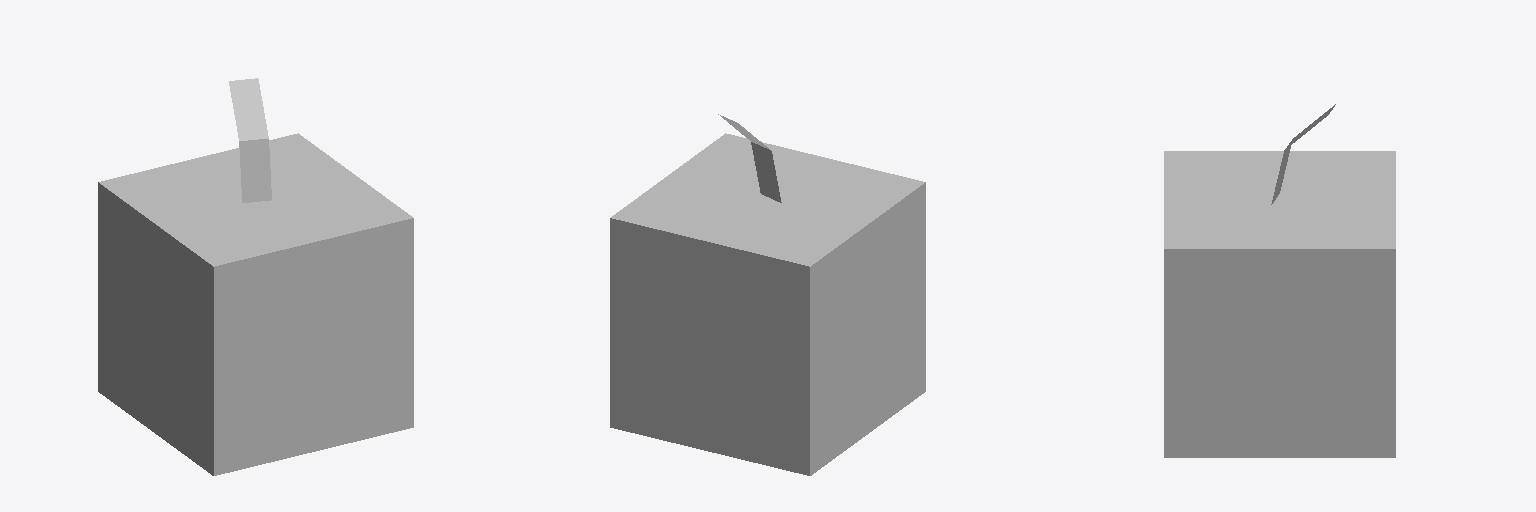
File: appel.obj
3 views of the same model, side by side, from view 1: azimuth 30°, elevation 25°; view 2: azimuth 150°, elevation 25°; view 3: azimuth 270°, elevation 25° (orthographic).
Parts seen in each view (by area): view 1: Cube, Plane; view 2: Cube, Plane; view 3: Cube, Plane.
Boxes of the visible parts, <box> form: Cube: <box>98,133,413,475</box>; Plane: <box>229,78,271,202</box>; Cube: <box>610,133,925,475</box>; Plane: <box>718,114,781,202</box>; Cube: <box>1164,151,1395,457</box>; Plane: <box>1271,104,1335,204</box>.
Size of the model in its own units: 2 by 2.93 by 2.